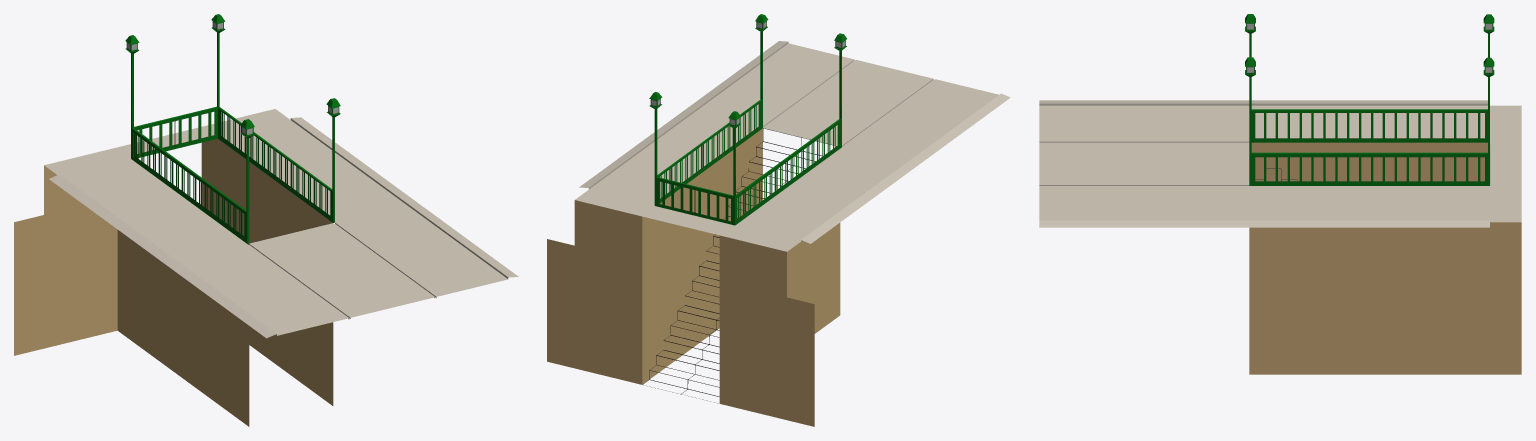
Rendered from Enterance.fbx.
The picture shows the model from 3 angles, left to right: view 1: azimuth 30°, elevation 25°; view 2: azimuth 150°, elevation 25°; view 3: azimuth 270°, elevation 25°; orthographic projection. The views are drawn at different scales.
Visible parts, largest first — view 1: Enterance; view 2: Enterance; view 3: Enterance.
Part boxes in pixels (x1,y1,x2,y2): Enterance: (14,14,518,426); Enterance: (547,14,1010,426); Enterance: (1039,14,1521,374).
Size of the model in its own units: 1443 by 1450 by 2000.
1 material, 1 textured.
